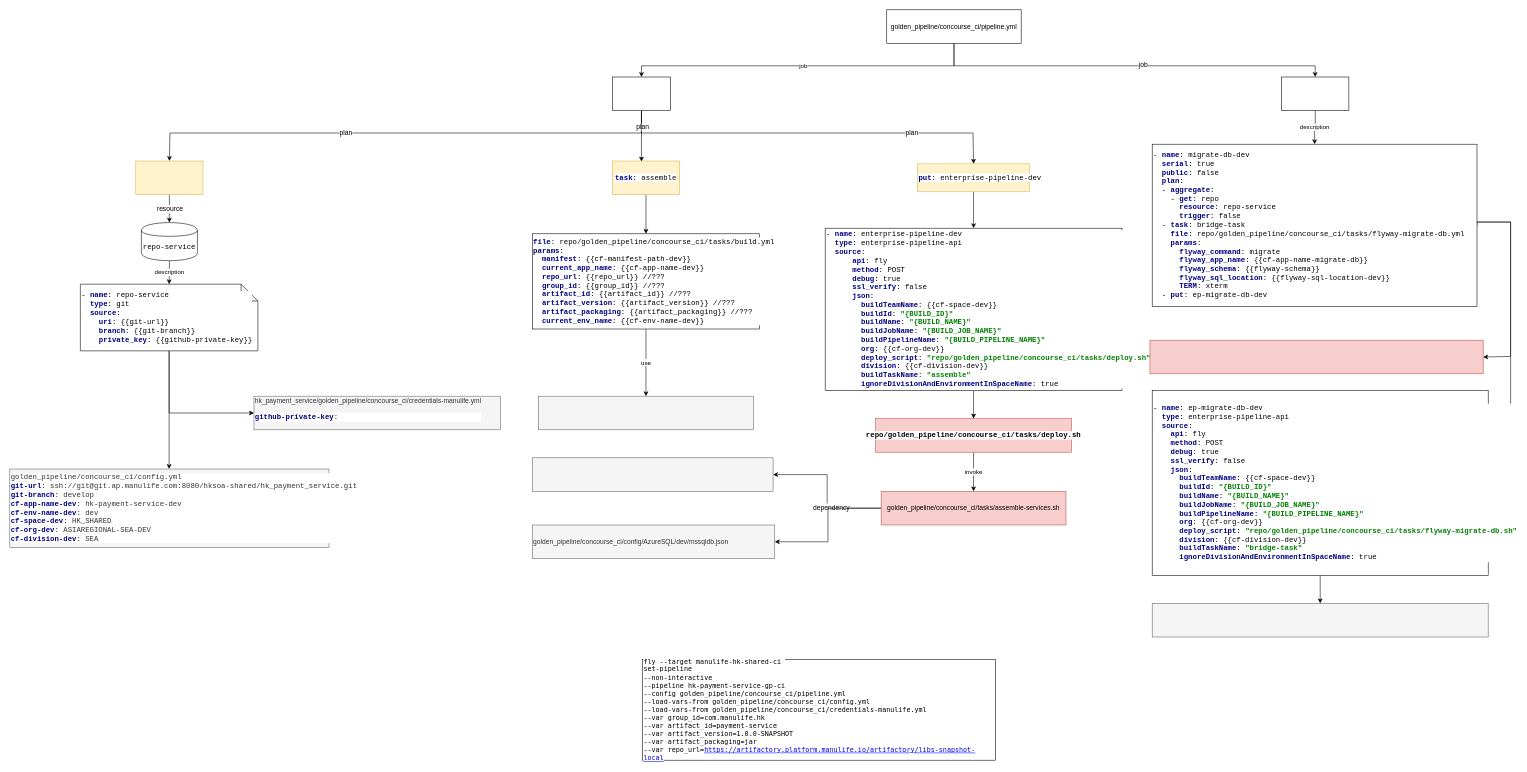
Image size: 1527x772. Some labels were removed from this diagram. The box of each missing label's shape, as (x1, y1, x2, y2) in pixels:
deploy-dev: (612, 76, 671, 111)
get : repo: (135, 160, 203, 195)
hk_payment_service/golden_pipeline/concourse_ci/config/configServer.json: (532, 457, 773, 491)
migrate-db-dev: (1281, 76, 1349, 111)
repo/golden_pipeline/concourse_ci/pcf/manifest-dev.yml: (538, 396, 753, 430)
repo/golden_pipeline/concourse_ci/tasks/flyway-migrate-db.sh: (1152, 603, 1488, 637)
repo/golden_pipeline/concourse_ci/tasks/flyway-migrate-db.yml: (1149, 340, 1483, 374)
